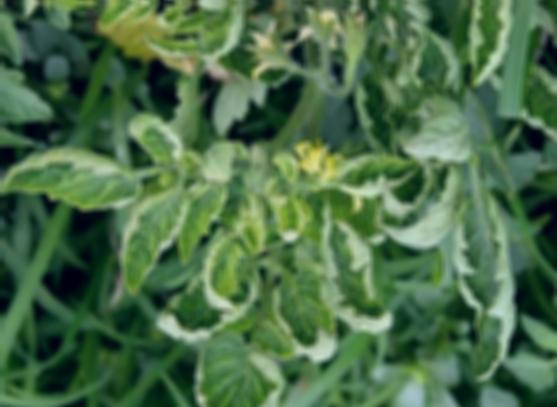Tomato leaf yellow virus: (309, 214, 407, 345), (153, 236, 264, 348), (0, 137, 154, 215), (199, 288, 285, 407), (111, 183, 197, 296), (267, 257, 348, 368), (456, 0, 514, 84), (326, 153, 423, 194), (270, 182, 306, 239)
